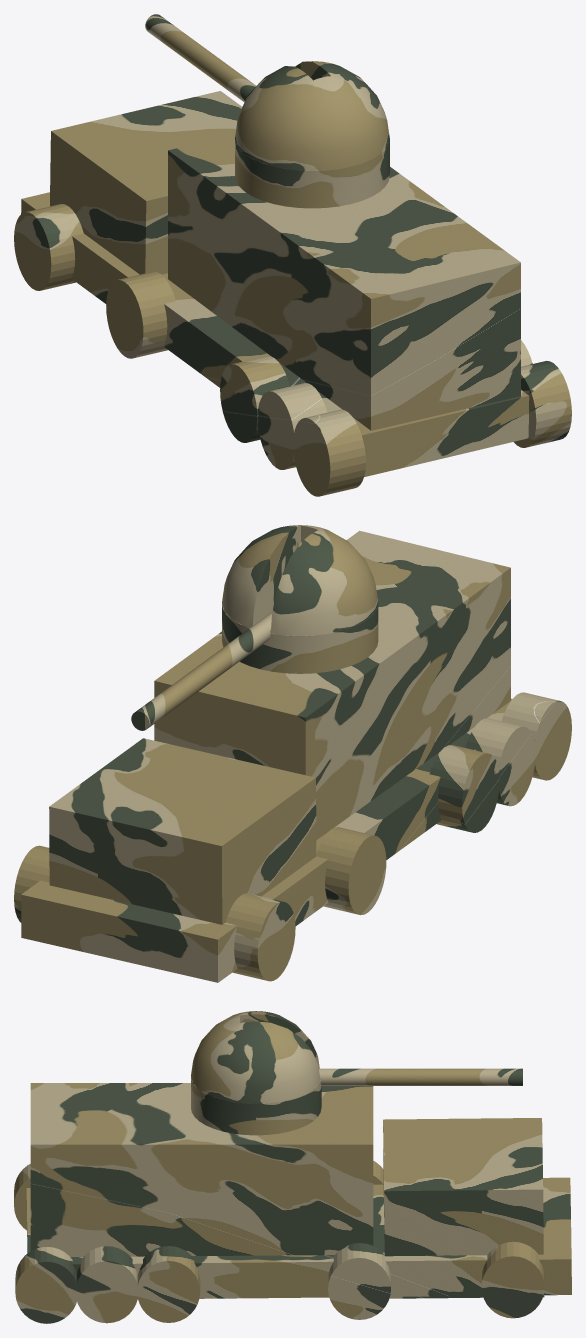
The model's file is Sender.fbx.
The picture shows the model from 3 angles, top to bottom: view 1: azimuth 30°, elevation 25°; view 2: azimuth 150°, elevation 25°; view 3: azimuth 270°, elevation 25°; orthographic projection. The views are drawn at different scales.
Parts seen in each view (by area): view 1: base, yr, xr; view 2: base, yr, xr; view 3: base, yr, xr.
Boxes of the visible parts, <box> form: base: <box>14,91,571,496</box>; yr: <box>235,61,389,208</box>; xr: <box>145,14,256,102</box>; base: <box>14,530,571,982</box>; yr: <box>222,525,378,673</box>; xr: <box>131,611,272,730</box>; base: <box>14,1083,571,1323</box>; yr: <box>191,1011,321,1135</box>; xr: <box>319,1068,522,1085</box>.
Bounding box in the file's own units: 440 × 522 × 1025.
Materials: 3 (3 with a texture image).
